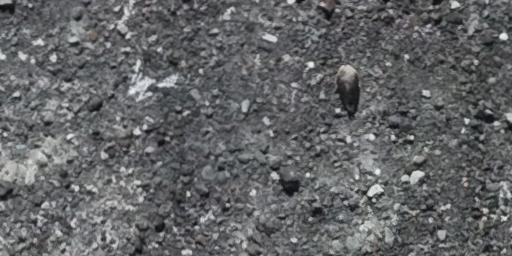skua: (328, 61, 369, 123)
